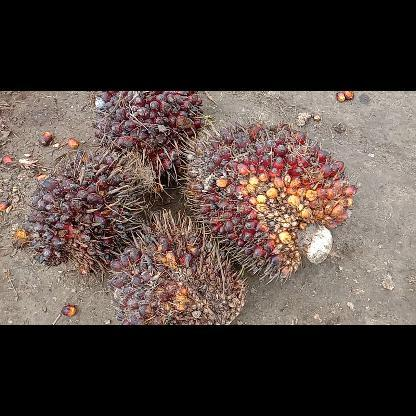TBS masak: (179, 119, 356, 284), (110, 210, 248, 324), (22, 149, 146, 273), (91, 91, 201, 183)
